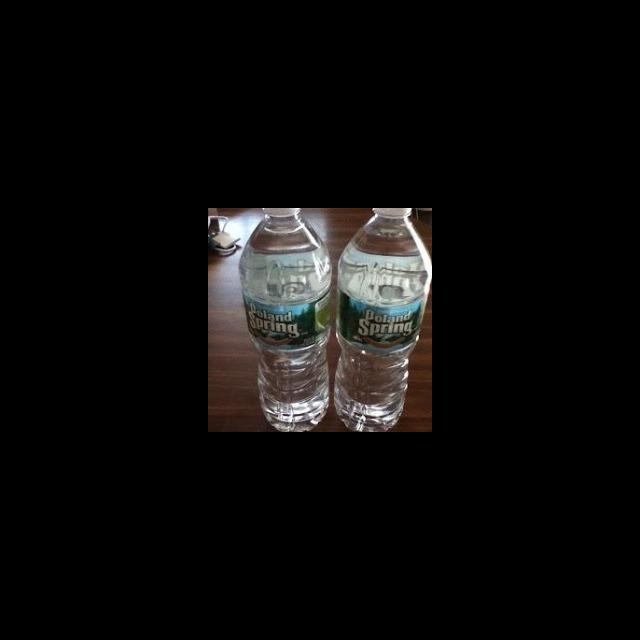plastic: (232, 208, 332, 432), (333, 208, 432, 432)
